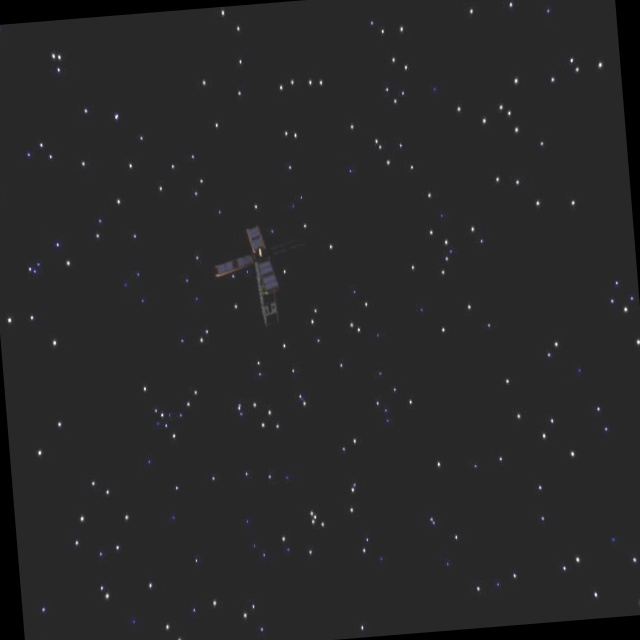medium_debris: (207, 217, 298, 334)
